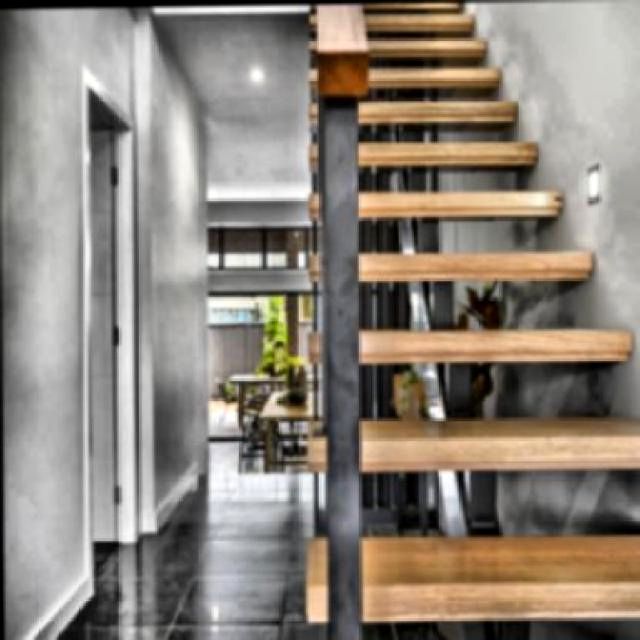stair: (303, 0, 622, 611)
